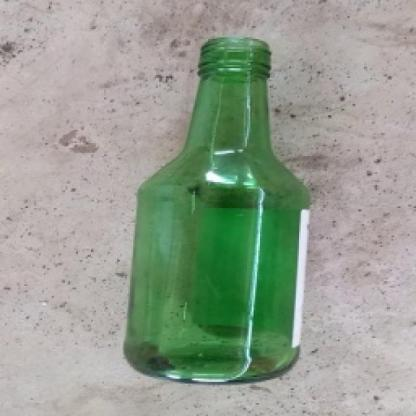Can: (123, 36, 312, 384)
